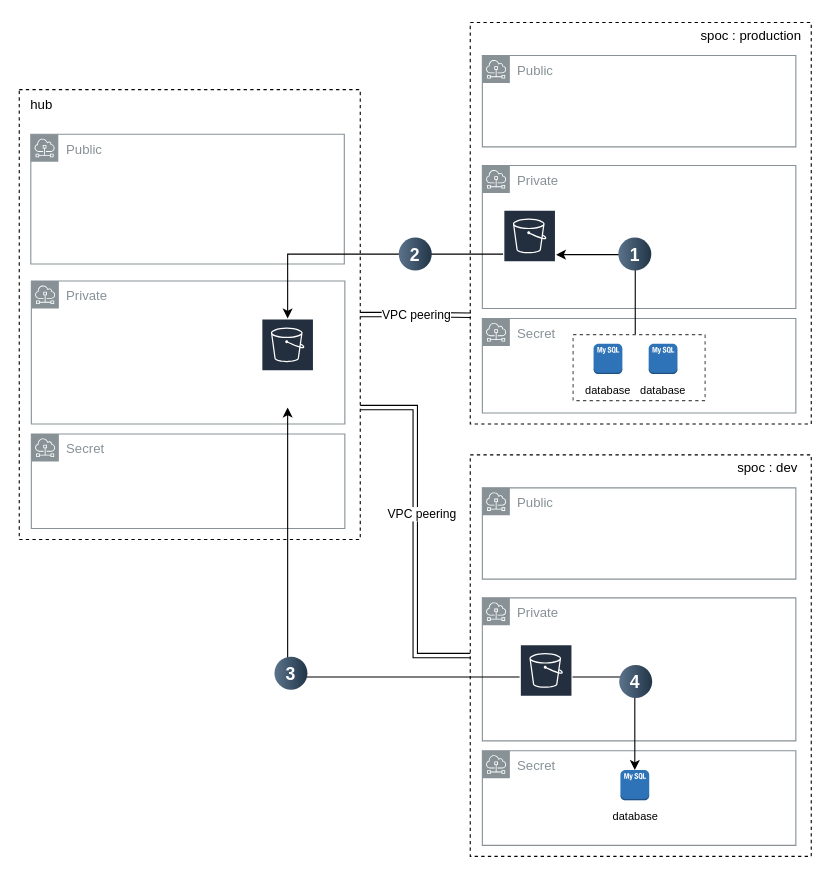
The diagram is 831 pixels wide and 876 high, and some of its shapes have lost their labels. Each missing label, with the box of its shape:
Amazon S3: (519, 643, 573, 710)
production backup: (502, 208, 556, 299)
Shared bucket: (260, 317, 314, 408)
